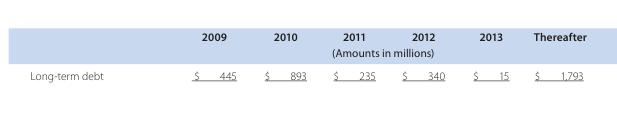table: (29, 29, 585, 81)
table column: (29, 29, 147, 81), (147, 29, 249, 81), (249, 29, 319, 81), (388, 29, 458, 81), (319, 29, 388, 81), (520, 29, 585, 81), (458, 29, 520, 81)
table column header: (29, 29, 585, 63)
table row: (29, 44, 585, 63), (29, 63, 585, 81), (29, 29, 585, 44)
table spanning cell: (147, 44, 585, 63)
